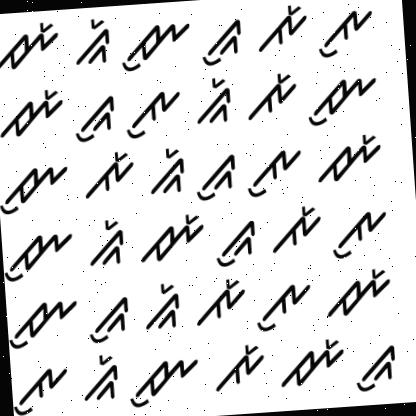ar: (252, 2, 312, 60), (189, 276, 251, 332), (264, 201, 326, 256), (209, 340, 268, 396), (244, 70, 302, 124), (82, 149, 140, 202)
aw: (314, 2, 380, 63), (122, 82, 185, 144), (242, 138, 305, 198), (329, 205, 393, 264), (12, 361, 76, 416), (254, 280, 315, 334)
nggar: (70, 11, 118, 74), (187, 73, 236, 134), (144, 140, 192, 200), (83, 215, 127, 270), (139, 280, 183, 333), (80, 352, 124, 404)
nggaw: (69, 86, 121, 148), (350, 340, 402, 399), (212, 212, 260, 270), (198, 13, 246, 70), (193, 152, 242, 203), (84, 296, 130, 348)
njar: (319, 262, 400, 323), (134, 209, 208, 266), (0, 81, 67, 142), (312, 132, 386, 186), (275, 336, 347, 390), (0, 17, 63, 77)
njaw: (119, 14, 196, 78), (302, 66, 381, 128), (126, 354, 204, 410), (3, 228, 78, 284), (0, 158, 71, 217), (6, 296, 82, 350)
